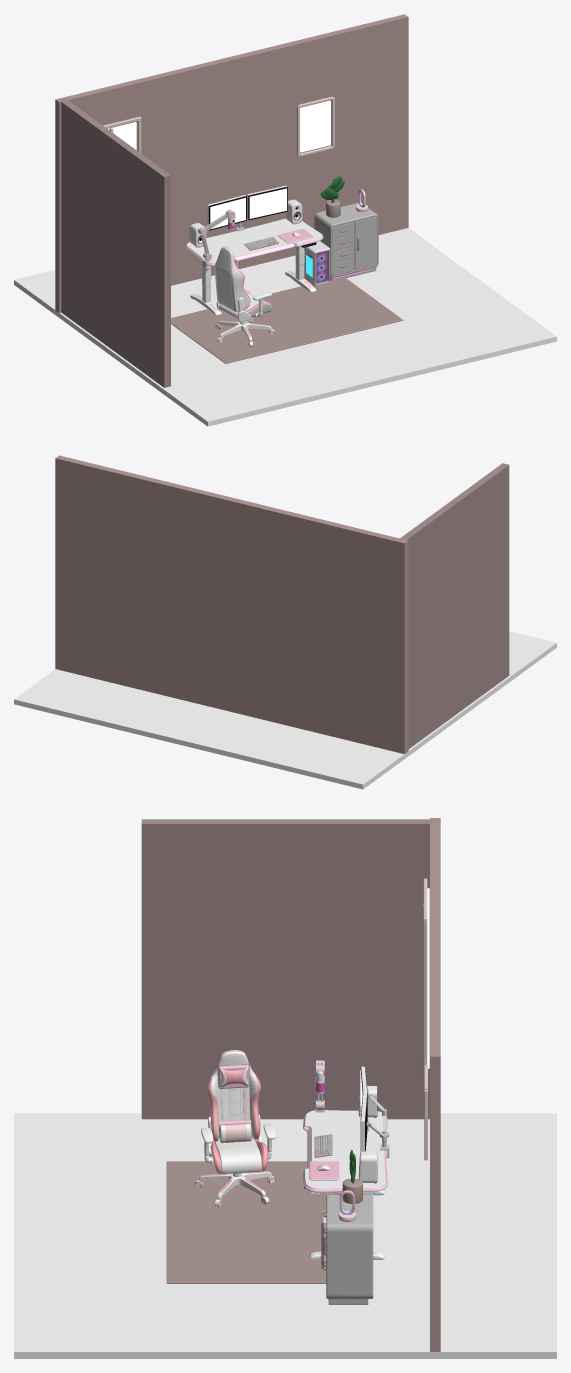
3 views of the same model, one above another, from view 1: azimuth 30°, elevation 25°; view 2: azimuth 150°, elevation 25°; view 3: azimuth 270°, elevation 25° (orthographic). The views are drawn at different scales.
Parts seen in each view (by area): view 1: Architecture_Back_Wall, Architecture_Floor, Architecture_Left_Wall, Decor_Rug, GEO_Desk_Moving_Top, GEO_Chair_Swivel_Upper, GEO_Cabinet_Body, Wall_Art_Art, GEO_Door_Right_Front, 04-pc-tower_mesh_01, Screen_Right, GEO_Desk_Fixed_Base (+2 smaller); view 2: Architecture_Back_Wall, Architecture_Left_Wall, Architecture_Floor; view 3: Architecture_Floor, Architecture_Left_Wall, Decor_Rug, Architecture_Back_Wall, GEO_Chair_Swivel_Upper, GEO_Cabinet_Body, GEO_Desk_Moving_Top, GEO_Chair_Static_Base, Window_Frame_V.001.
Boxes of the visible parts, left/top/right/bottom form: Architecture_Back_Wall: left=55, top=14, right=408, bottom=312; Architecture_Floor: left=14, top=228, right=556, bottom=426; Architecture_Left_Wall: left=58, top=98, right=170, bottom=387; Decor_Rug: left=171, top=277, right=403, bottom=363; GEO_Desk_Moving_Top: left=185, top=218, right=323, bottom=274; GEO_Chair_Swivel_Upper: left=215, top=246, right=272, bottom=321; GEO_Cabinet_Body: left=314, top=202, right=378, bottom=280; Wall_Art_Art: left=300, top=100, right=330, bottom=152; GEO_Door_Right_Front: left=355, top=216, right=377, bottom=270; 04-pc-tower_mesh_01: left=304, top=241, right=330, bottom=286; Screen_Right: left=249, top=188, right=286, bottom=218; GEO_Desk_Fixed_Base: left=190, top=263, right=316, bottom=315; Architecture_Back_Wall: left=55, top=455, right=408, bottom=753; Architecture_Left_Wall: left=396, top=463, right=509, bottom=748; Architecture_Floor: left=14, top=631, right=556, bottom=789; Architecture_Floor: left=14, top=1113, right=556, bottom=1358; Architecture_Left_Wall: left=141, top=819, right=440, bottom=1119; Decor_Rug: left=166, top=1161, right=334, bottom=1283; Architecture_Back_Wall: left=430, top=818, right=440, bottom=1351; GEO_Chair_Swivel_Upper: left=201, top=1050, right=275, bottom=1173; GEO_Cabinet_Body: left=326, top=1194, right=373, bottom=1304; GEO_Desk_Moving_Top: left=303, top=1110, right=387, bottom=1194; GEO_Chair_Static_Base: left=194, top=1171, right=275, bottom=1206; Window_Frame_V.001: left=423, top=921, right=427, bottom=1075.
Bounding box in the file's own units: 5.2 × 3.07 × 5.
Materials: 32 (12 with a texture image).
